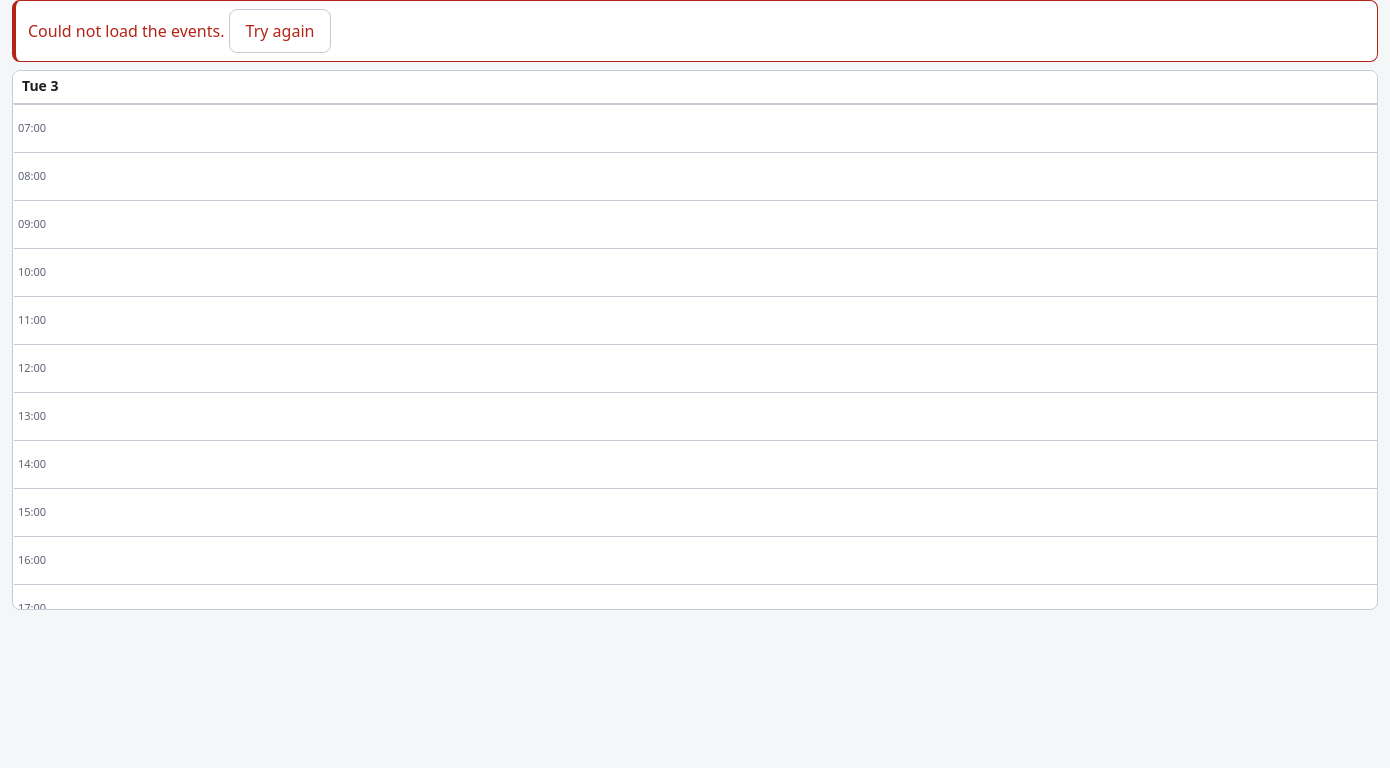
it: Calendar: loading › shows an error with 'Try again' when the load fails, and loads again
(page scrolled)
Check: the message shows "Could not load the events.", box [28, 20, 224, 42]
Click the button "Try again" at (280, 31), box [229, 9, 331, 53]
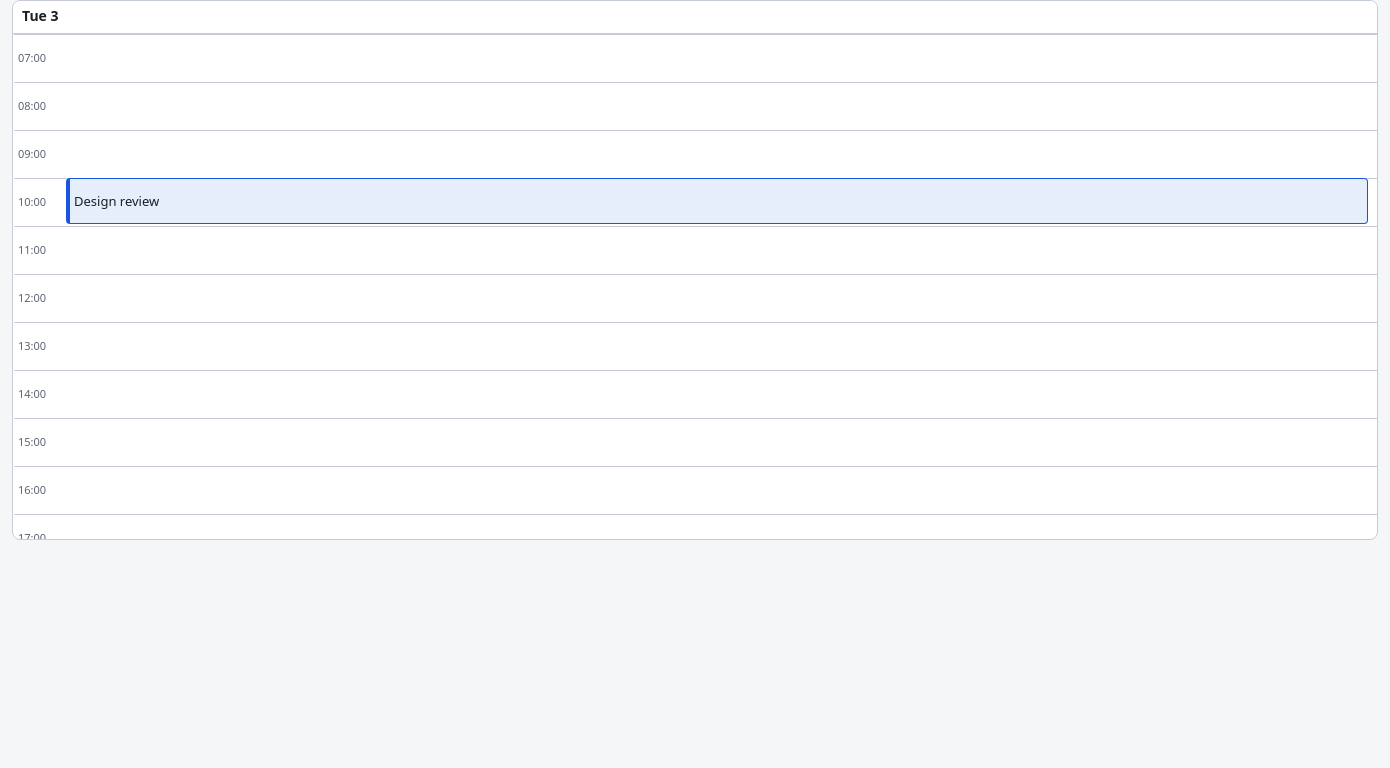
Check: the message "Could not load the events. Try again" is gone
Check: the button with aria-label "Design review," is shown, box [66, 178, 1368, 224]
